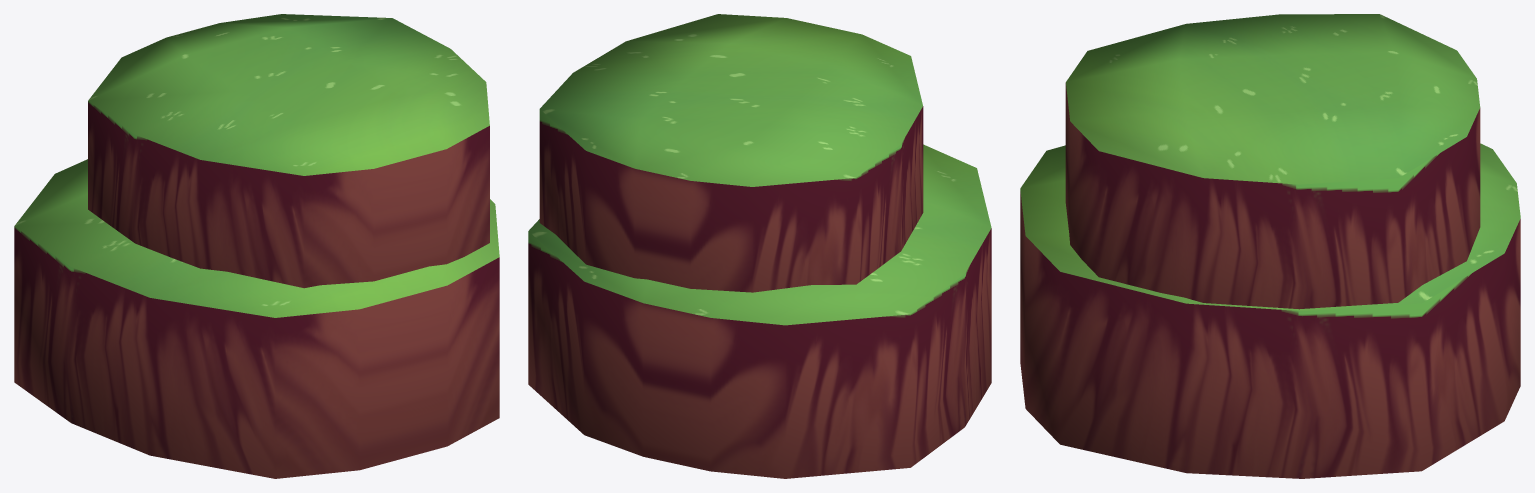
Rendered from island_08.gltf.
3 renders of one model, left to right at view 1: azimuth 30°, elevation 25°; view 2: azimuth 150°, elevation 25°; view 3: azimuth 270°, elevation 25°, orthographic. The views are drawn at different scales.
Parts seen in each view (by area): view 1: Island08Mesh -col; view 2: Island08Mesh -col; view 3: Island08Mesh -col.
Part boxes in pixels (x1,y1,x2,y2): Island08Mesh -col: [14, 14, 499, 478]; Island08Mesh -col: [528, 14, 991, 478]; Island08Mesh -col: [1020, 14, 1520, 478].
Size of the model in its own units: 3.28 by 2.3 by 3.36.
Materials: 1 (1 with a texture image).
